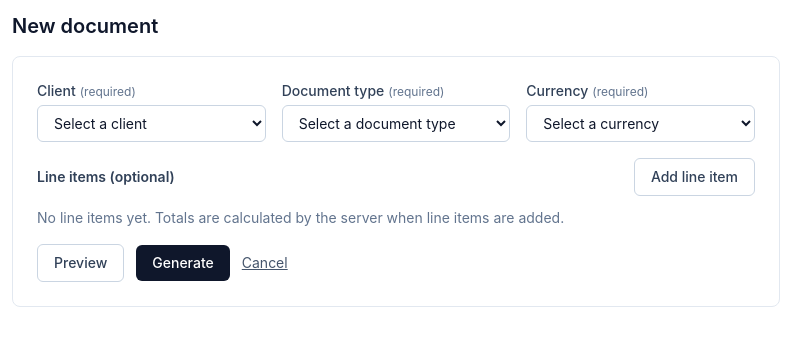
Test case: DocumentCreatePage › blocks submission without required selections and does not POST
The image size is (797, 348).
Check: the dropdown labelled "Client(required)" is shown, box top-left (37, 105), bottom-right (266, 142)
Click the button "Generate" at (183, 263), box top-left (136, 245), bottom-right (230, 281)
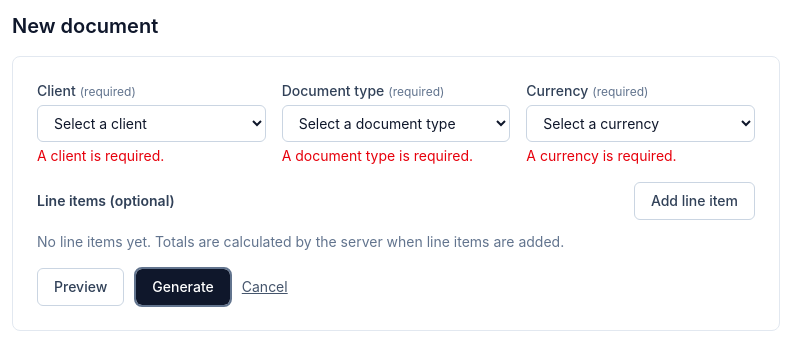
Check: the text "A client is required." is shown, box top-left (37, 147), bottom-right (164, 164)
Check: the text "A document type is required." is shown, box top-left (282, 147), bottom-right (473, 164)
Check: the text "A currency is required." is shown, box top-left (526, 147), bottom-right (677, 164)
